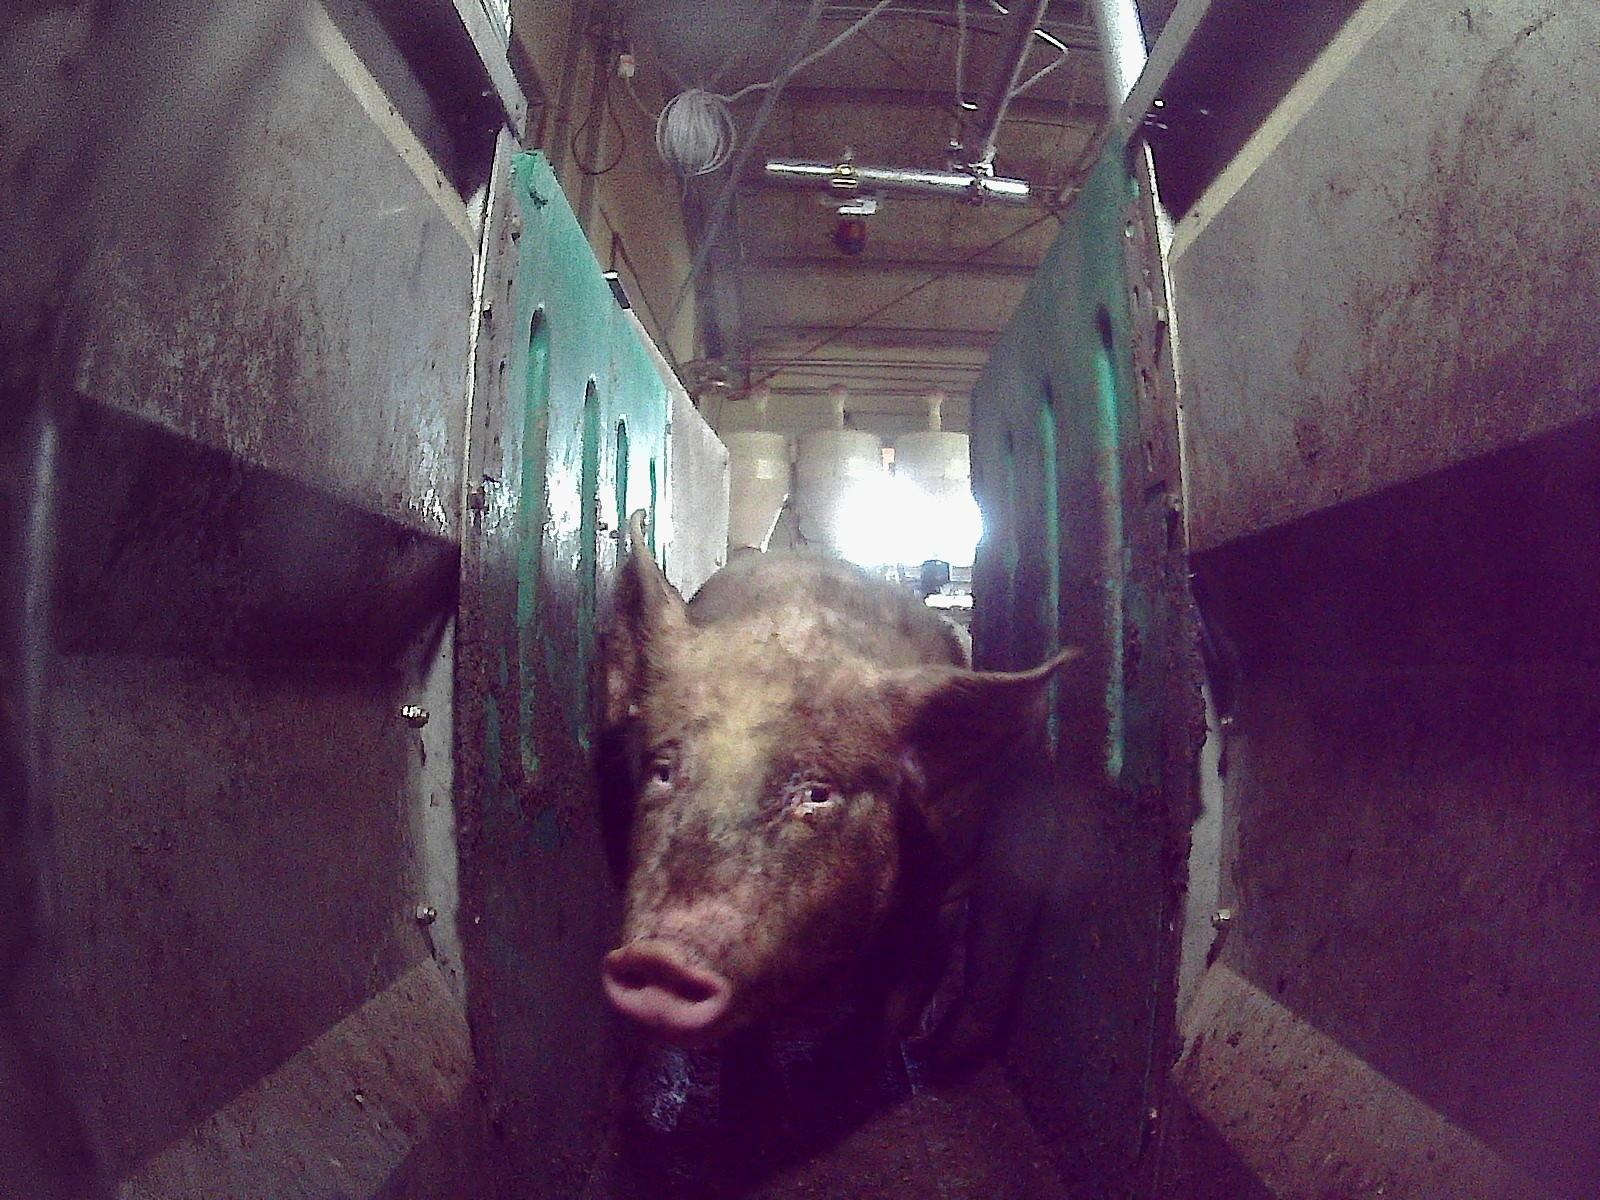Face: (596, 649, 905, 1043)
